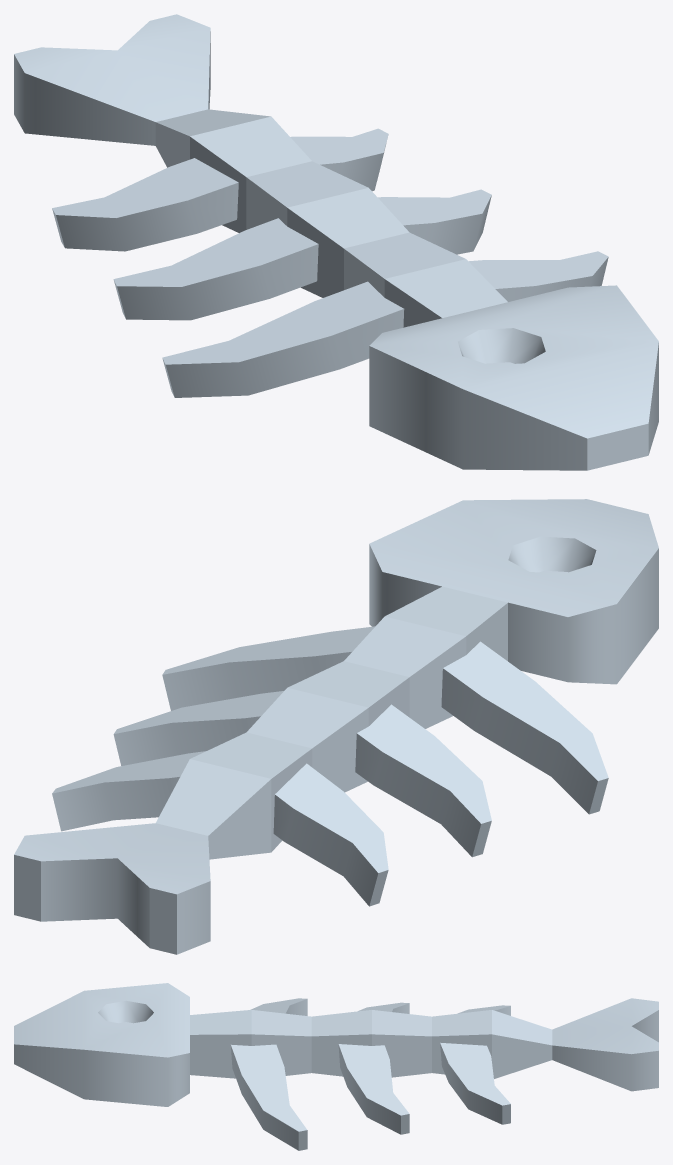
Rendered from fishBones.obj.
The picture shows the model from 3 angles, top to bottom: view 1: azimuth 30°, elevation 25°; view 2: azimuth 150°, elevation 25°; view 3: azimuth 270°, elevation 25°; orthographic projection. The views are drawn at different scales.
Parts seen in each view (by area): view 1: fishBones; view 2: fishBones; view 3: fishBones.
Part boxes in pixels (x1,y1,x2,y2): fishBones: (14, 14, 658, 470); fishBones: (14, 499, 658, 954); fishBones: (14, 983, 658, 1150).
Bounding box in the file's own units: 0.3113 × 0.0726 × 0.6358.
